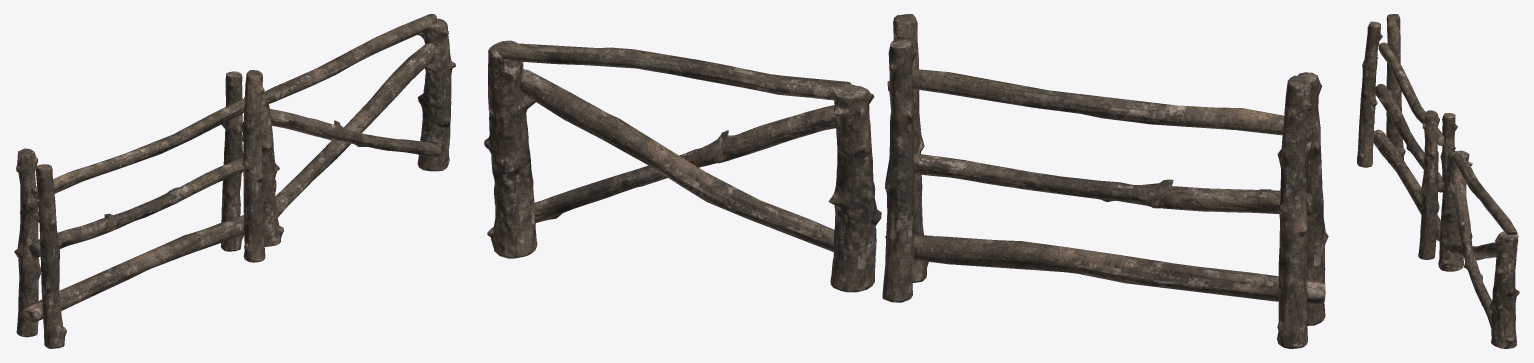
Rendered from SM_Fence_01a_Splines_11.fbx.
3 renders of one model, left to right at view 1: azimuth 30°, elevation 25°; view 2: azimuth 150°, elevation 25°; view 3: azimuth 270°, elevation 25°, orthographic. The views are drawn at different scales.
Parts seen in each view (by area): view 1: SM_Fence_01a_Splines_5_LOD0; view 2: SM_Fence_01a_Splines_5_LOD0; view 3: SM_Fence_01a_Splines_5_LOD0.
Part boxes in pixels (<box>): SM_Fence_01a_Splines_5_LOD0: <box>14,14,455,348</box>; SM_Fence_01a_Splines_5_LOD0: <box>484,14,1328,348</box>; SM_Fence_01a_Splines_5_LOD0: <box>1357,14,1519,348</box>.
Size of the model in its own units: 404 by 142 by 140.
